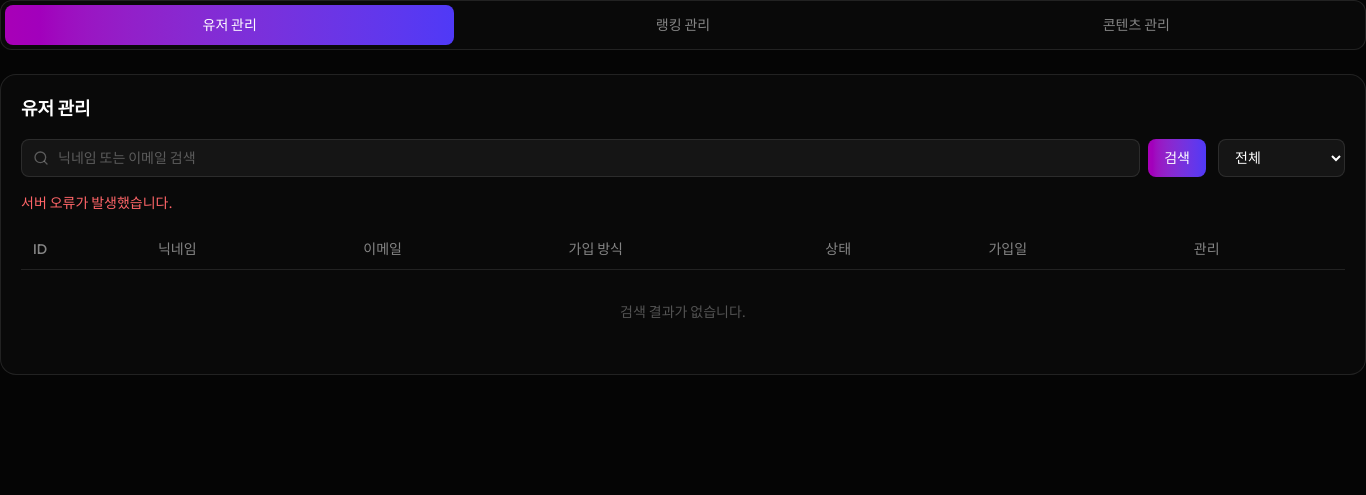
Test: AdminTabs › 유저 관리 탭으로 돌아갈 수 있어야 한다
The image size is (1366, 495).
# 랭킹 관리로 전환
What coordinates should you click on to do the following:
click the button "랭킹 관리"
I would click on:
 (683, 25)
Its box is x1=458 y1=5 x2=908 y2=45.
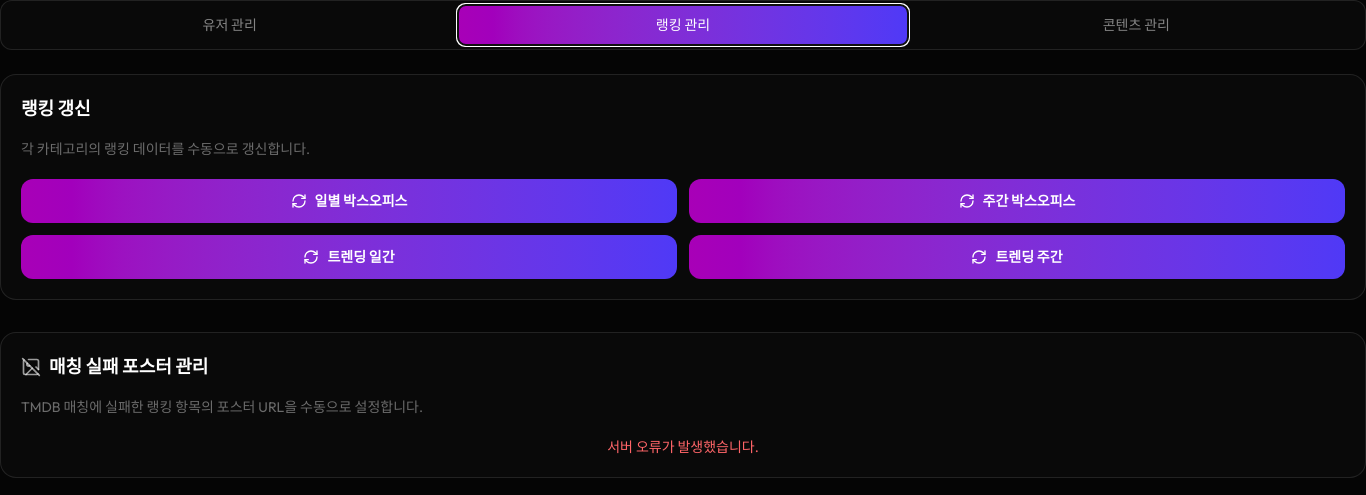
Check: the heading "랭킹 갱신" is shown, box x1=21 y1=97 x2=91 y2=120
# 유저 관리로 복귀
What coordinates should you click on to do the following:
click the button "유저 관리"
I would click on:
 (230, 25)
Its box is x1=5 y1=5 x2=454 y2=45.
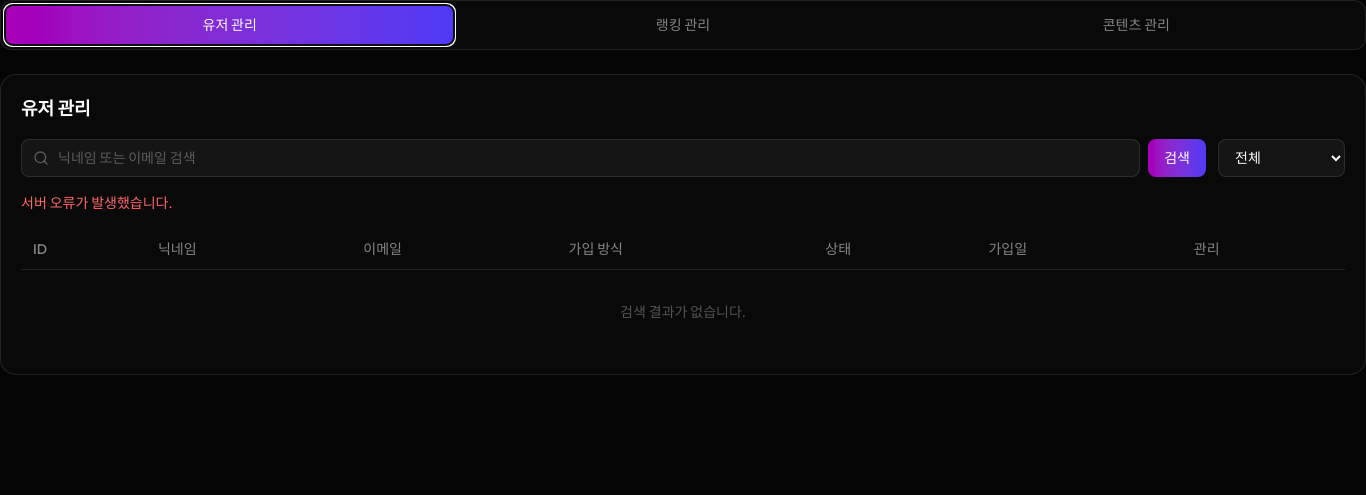
Check: the heading "유저 관리" is shown, box x1=21 y1=97 x2=91 y2=120
